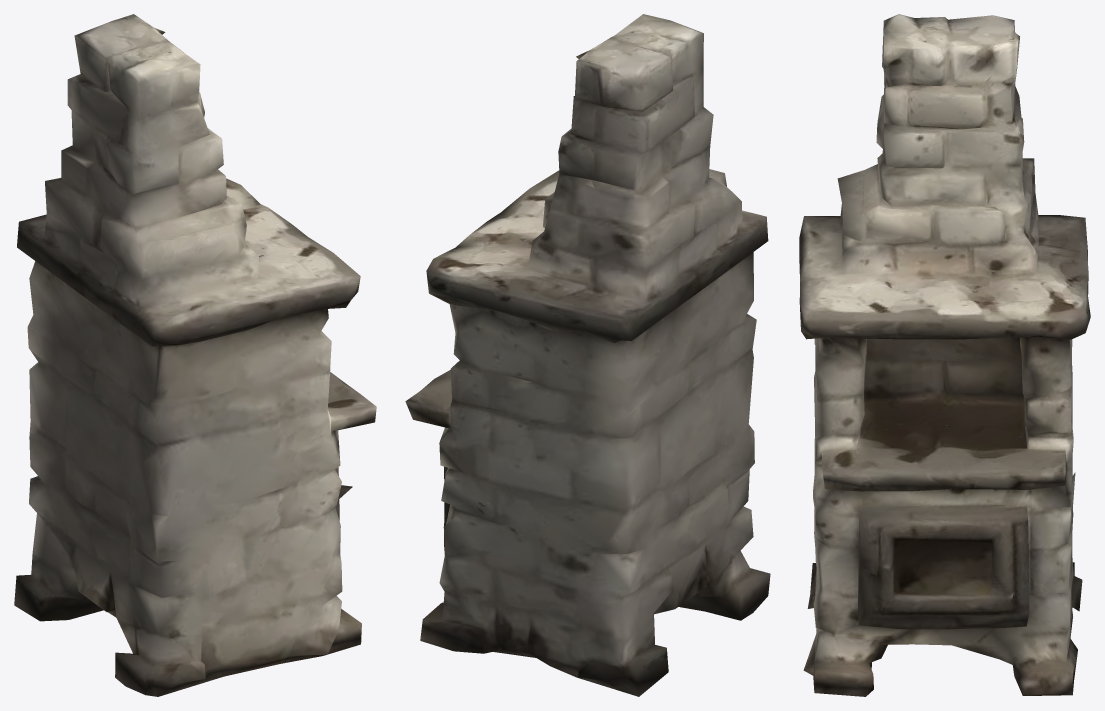
The model's file is e_pech.glb.
The picture shows the model from 3 angles, left to right: view 1: azimuth 30°, elevation 25°; view 2: azimuth 150°, elevation 25°; view 3: azimuth 270°, elevation 25°; orthographic projection.
Parts seen in each view (by area): view 1: tripo_node_612ce981-c138-4f54-9dcb-2e7dcf528c99; view 2: tripo_node_612ce981-c138-4f54-9dcb-2e7dcf528c99; view 3: tripo_node_612ce981-c138-4f54-9dcb-2e7dcf528c99.
Part boxes in pixels (x1,y1,x2,y2): tripo_node_612ce981-c138-4f54-9dcb-2e7dcf528c99: (14,14,376,696); tripo_node_612ce981-c138-4f54-9dcb-2e7dcf528c99: (405,14,770,696); tripo_node_612ce981-c138-4f54-9dcb-2e7dcf528c99: (799,14,1090,696).
Bounding box in the file's own units: 0.4323 × 1 × 0.4465.
1 material, 1 textured.
